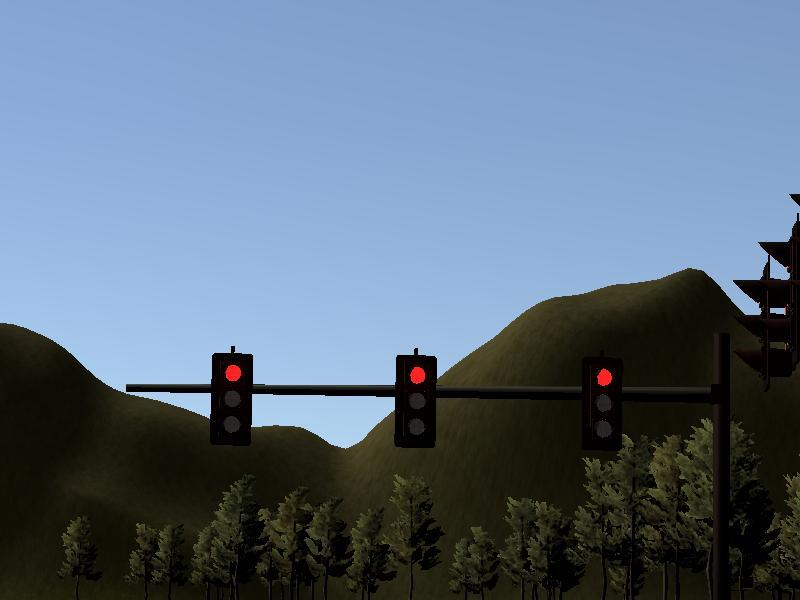Red: (398, 354, 438, 447), (212, 353, 252, 441), (583, 362, 624, 443)
